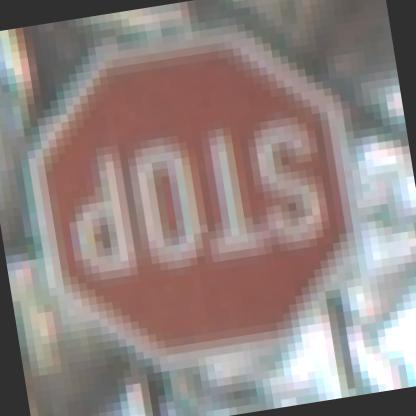stop: (14, 11, 384, 410)
